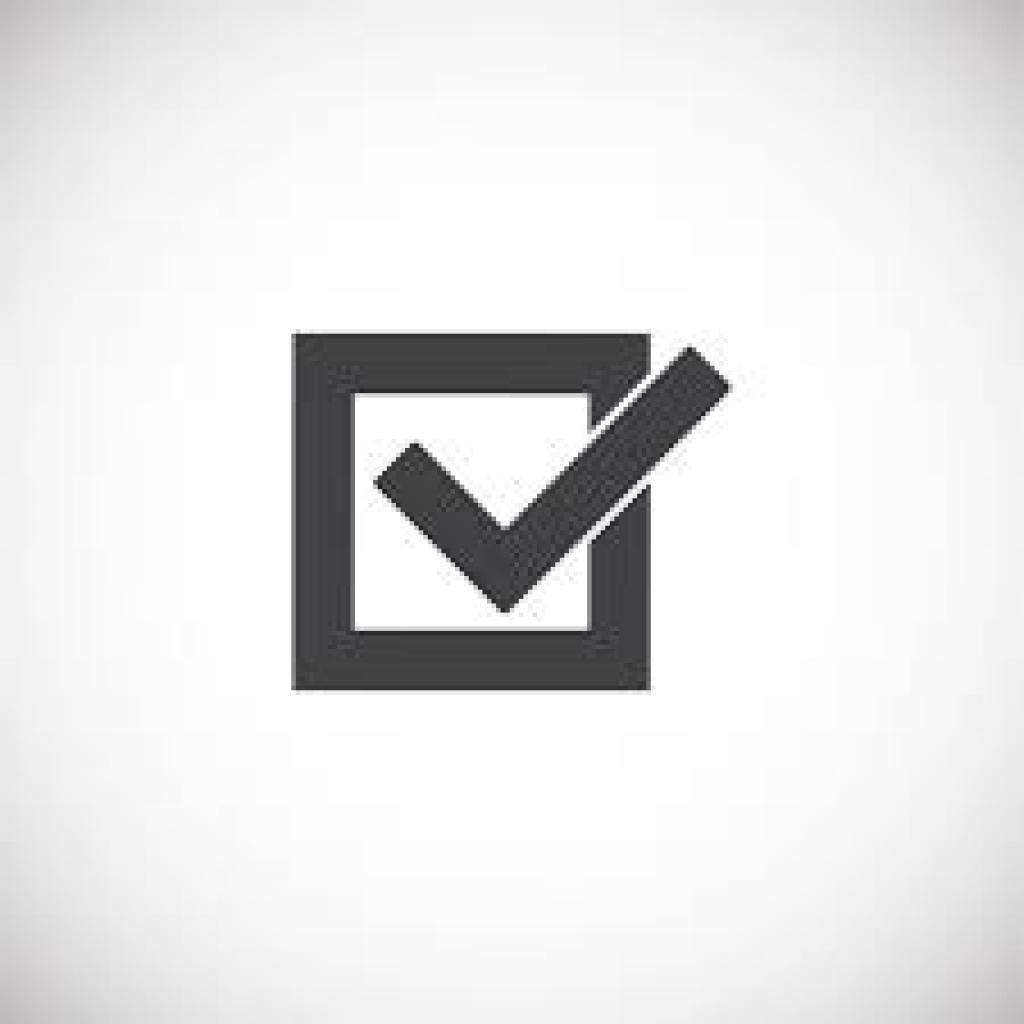checkbox: (291, 333, 735, 693)
